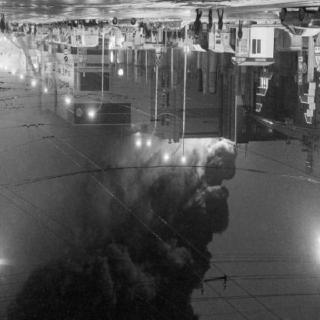Fire: (184, 132, 230, 176)
other: (1, 28, 109, 114), (122, 133, 184, 175)
